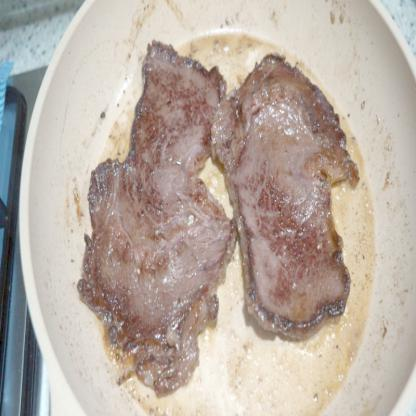Carne: (79, 38, 228, 398), (213, 57, 358, 341)
